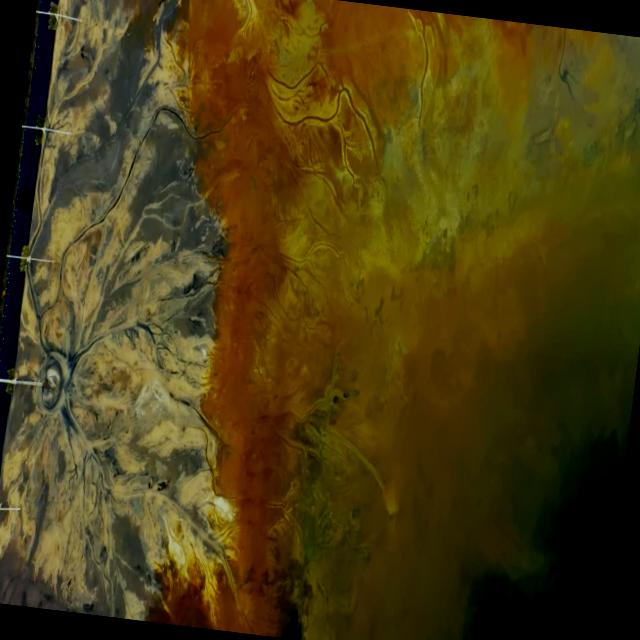yellow_boy: (148, 0, 640, 640)
